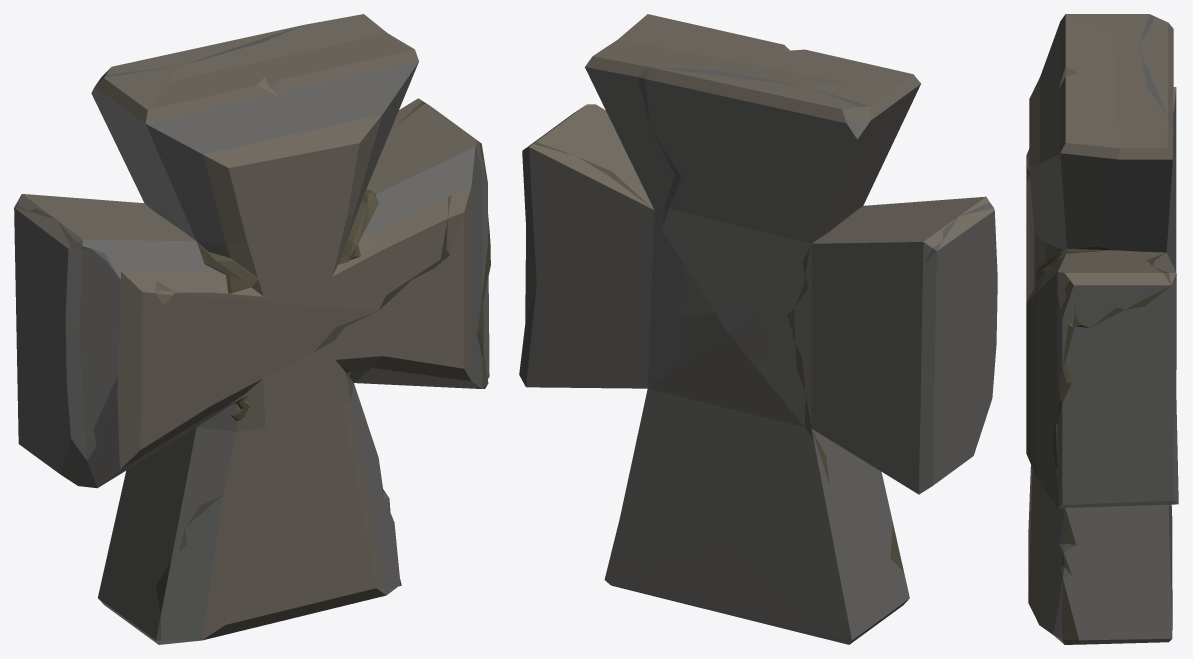
The model's file is stone_double_cross.fbx.
3 renders of one model, left to right at view 1: azimuth 30°, elevation 25°; view 2: azimuth 150°, elevation 25°; view 3: azimuth 270°, elevation 25°, orthographic. The views are drawn at different scales.
Visible parts, largest first — view 1: stone_double_cross; view 2: stone_double_cross; view 3: stone_double_cross.
Part boxes in pixels (left/top/right/bottom): stone_double_cross: left=14, top=14, right=490, bottom=644; stone_double_cross: left=519, top=14, right=997, bottom=644; stone_double_cross: left=1026, top=14, right=1178, bottom=644.
Bounding box in the file's own units: 1.91 × 2.3 × 0.6206.
